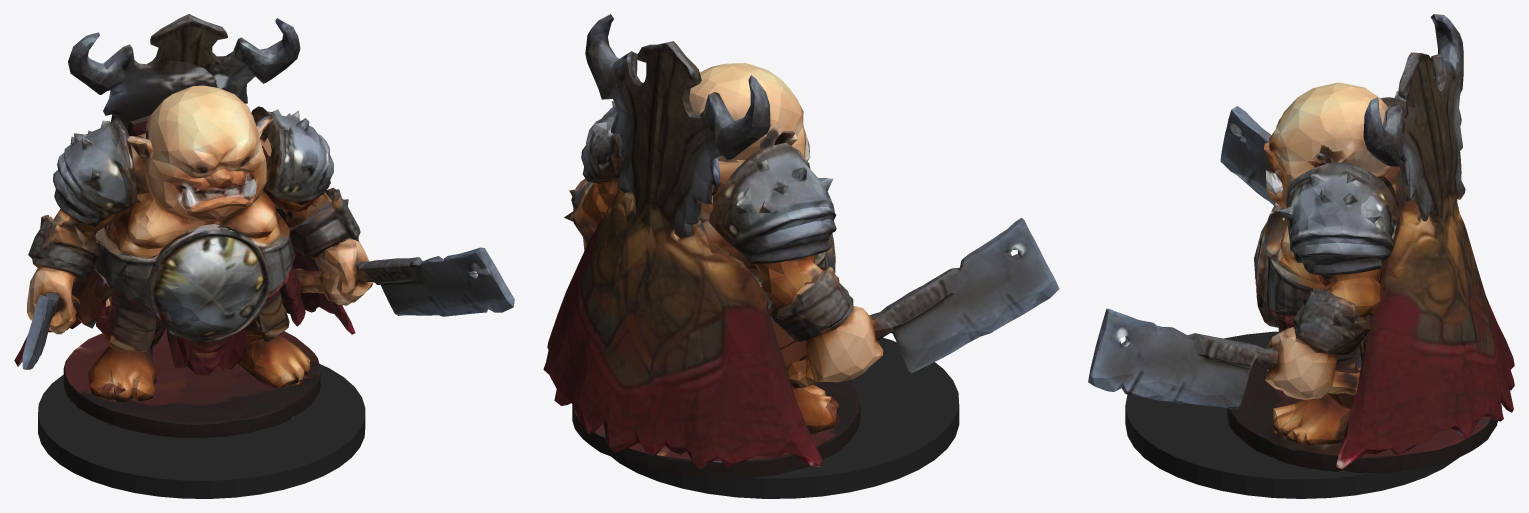
The model's file is ogm-tyrant.glb.
3 renders of one model, left to right at view 1: azimuth 30°, elevation 25°; view 2: azimuth 150°, elevation 25°; view 3: azimuth 270°, elevation 25°, orthographic. The views are drawn at different scales.
Visible parts, largest first — view 1: figure, base; view 2: figure, base; view 3: figure, base.
Part boxes in pixels (x1=…): figure: x1=14, y1=14, x2=514, y2=438; base: x1=38, y1=364, x2=365, y2=498; figure: x1=543, y1=14, x2=1059, y2=478; base: x1=612, y1=337, x2=959, y2=498; figure: x1=1088, y1=14, x2=1514, y2=472; base: x1=1125, y1=331, x2=1458, y2=498.
Bounding box in the file's own units: 2.99 × 2.42 × 2.39.
Materials: 2 (1 with a texture image).
